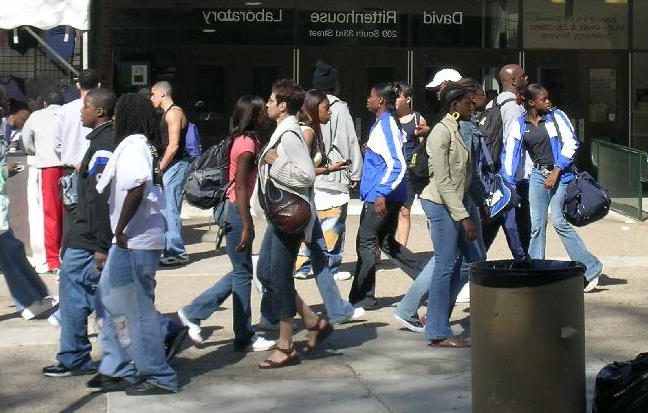pedestrian: (89, 93, 179, 395), (177, 99, 274, 351), (257, 80, 333, 369), (501, 84, 602, 292), (43, 89, 116, 376), (408, 86, 486, 348), (348, 85, 424, 307)
